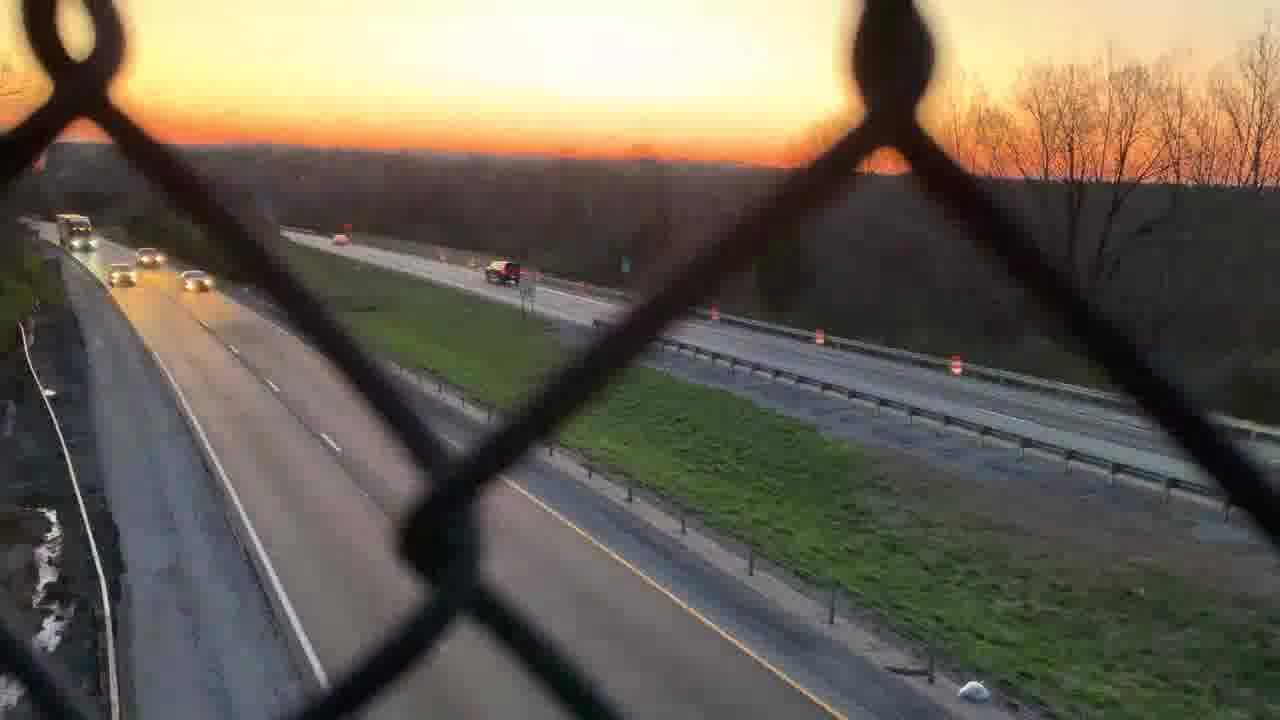heavyTruck: (57, 209, 95, 254)
lightTruck: (102, 265, 136, 292)
smallCar: (177, 267, 218, 293)
